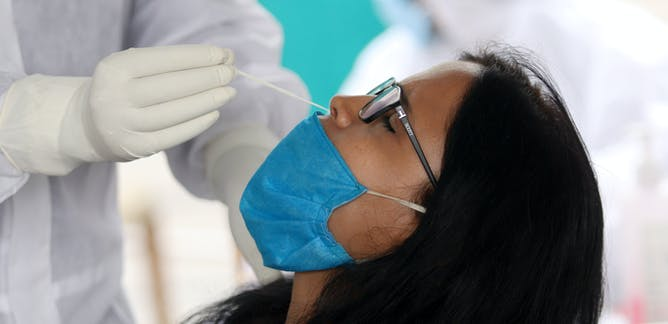Gloves: (2, 44, 235, 175)
mask_weared_incorrect: (239, 69, 427, 270)
